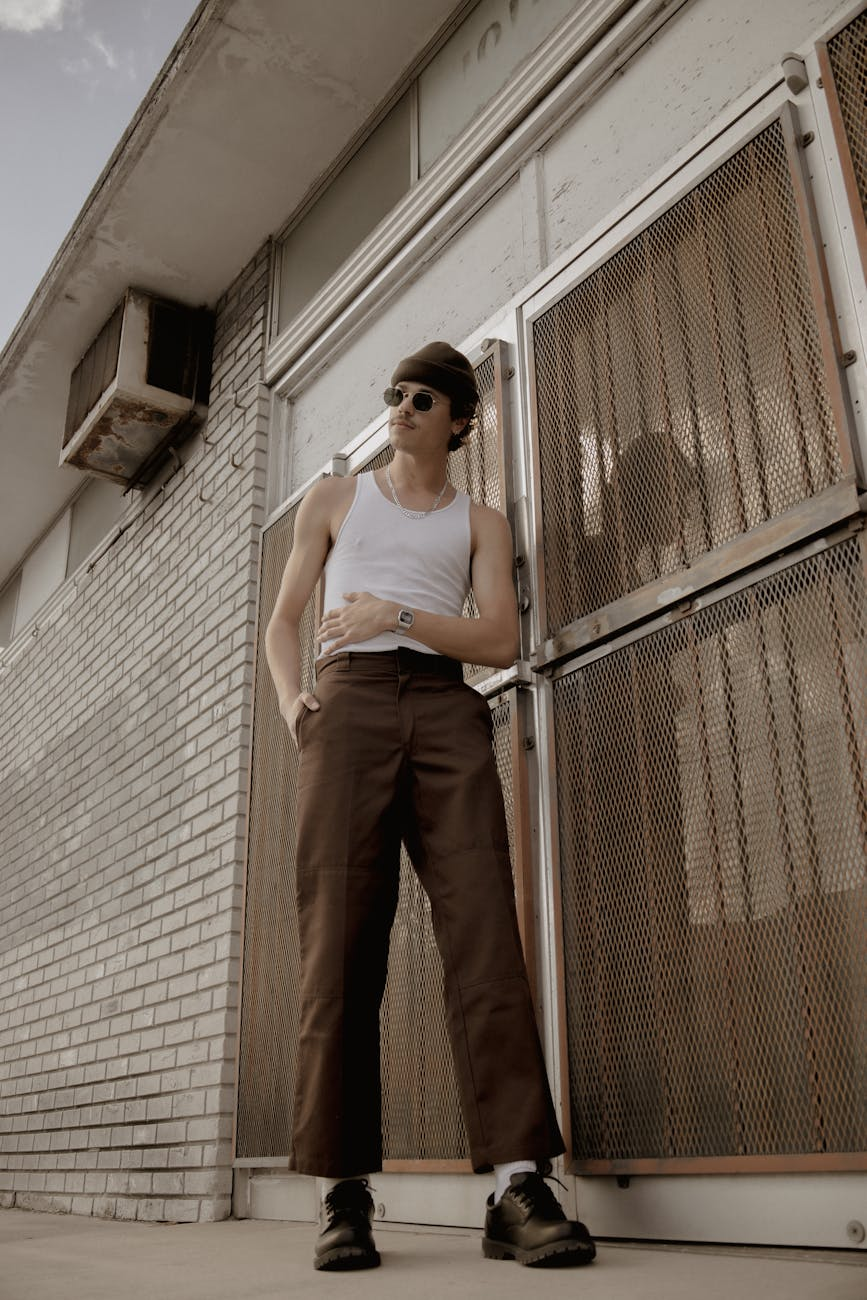sleeveless_top: (308, 467, 499, 658)
